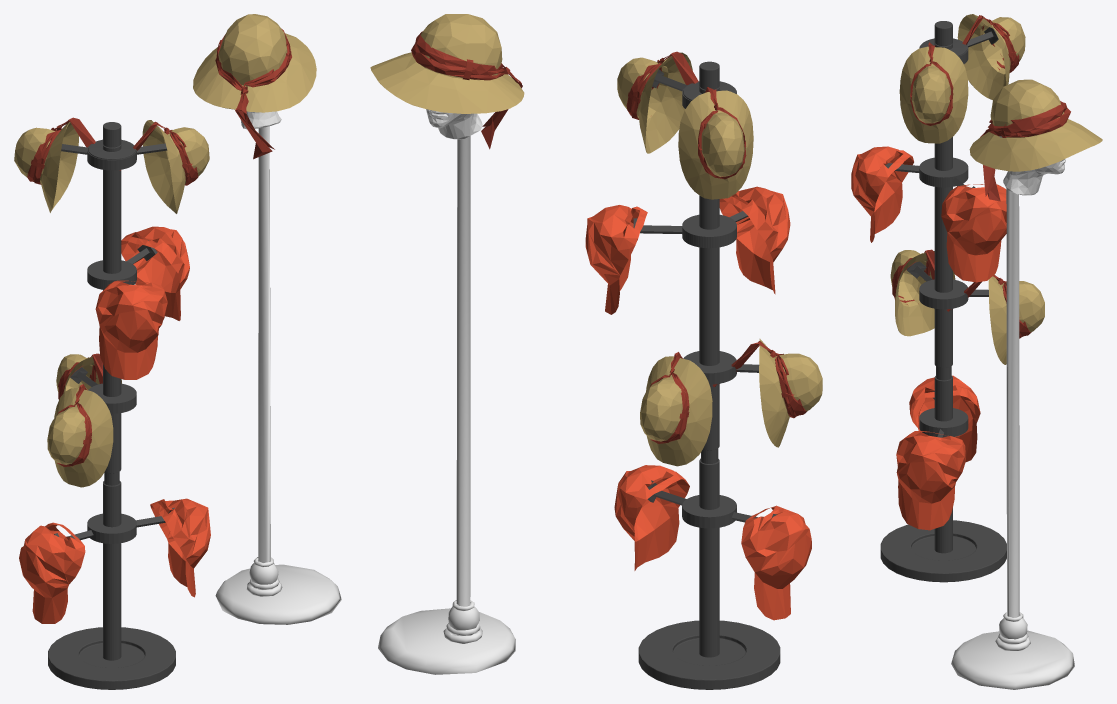
Rendered from Hats.fbx.
The picture shows the model from 3 angles, left to right: view 1: azimuth 30°, elevation 25°; view 2: azimuth 150°, elevation 25°; view 3: azimuth 270°, elevation 25°; orthographic projection. The views are drawn at different scales.
Visible parts, largest first — view 1: Hat_mannequin, Cylinder01, Cap.003, Female_hat.002, Cap, Female_hat.004, Female_hat.005, Cap.002, Cap.001, Female_hat.003, Cylinder01.007, Cylinder01.005 (+6 smaller); view 2: Hat_mannequin, Cylinder01, Female_hat.005, Female_hat.003, Cap, Cap.001, Female_hat.004, Cap.003, Female_hat.002, Cap.002, Cylinder01.005, Cylinder01.007 (+3 smaller); view 3: Hat_mannequin, Cylinder01, Female_hat.004, Cap.001, Cap.002, Female_hat.005, Cap.003, Female_hat.002, Female_hat.003, Cap, Cylinder01.006, Cylinder01.004 (+4 smaller).
Part boxes in pixels (x1,y1,x2,y2): Hat_mannequin: [193, 14, 341, 624]; Cylinder01: [48, 122, 175, 689]; Cap.003: [95, 280, 167, 379]; Female_hat.002: [47, 384, 113, 487]; Cap: [19, 522, 85, 623]; Female_hat.004: [119, 120, 209, 213]; Female_hat.005: [14, 117, 95, 212]; Cap.002: [121, 226, 189, 320]; Cap.001: [150, 498, 210, 597]; Female_hat.003: [56, 353, 121, 399]; Cylinder01.007: [87, 507, 174, 543]; Cylinder01.005: [87, 240, 157, 289]; Hat_mannequin: [370, 14, 524, 674]; Cylinder01: [638, 61, 780, 689]; Female_hat.005: [678, 87, 753, 199]; Female_hat.003: [640, 352, 712, 466]; Cap: [741, 505, 811, 620]; Cap.001: [614, 465, 689, 570]; Female_hat.004: [617, 51, 698, 153]; Cap.003: [719, 186, 790, 294]; Female_hat.002: [712, 339, 822, 447]; Cap.002: [585, 205, 647, 314]; Cylinder01.005: [633, 215, 736, 248]; Cylinder01.007: [647, 480, 736, 528]; Hat_mannequin: [951, 79, 1102, 689]; Cylinder01: [880, 21, 1006, 582]; Female_hat.004: [899, 42, 968, 143]; Cap.001: [896, 430, 965, 530]; Cap.002: [941, 184, 1006, 282]; Female_hat.005: [957, 14, 1025, 100]; Cap.003: [851, 146, 913, 242]; Female_hat.002: [890, 249, 955, 336]; Female_hat.003: [947, 274, 1044, 364]; Cap: [909, 375, 980, 461]; Cylinder01.006: [906, 261, 967, 309]; Cylinder01.004: [885, 157, 968, 187].
Size of the model in its own units: 229 by 367 by 147.
